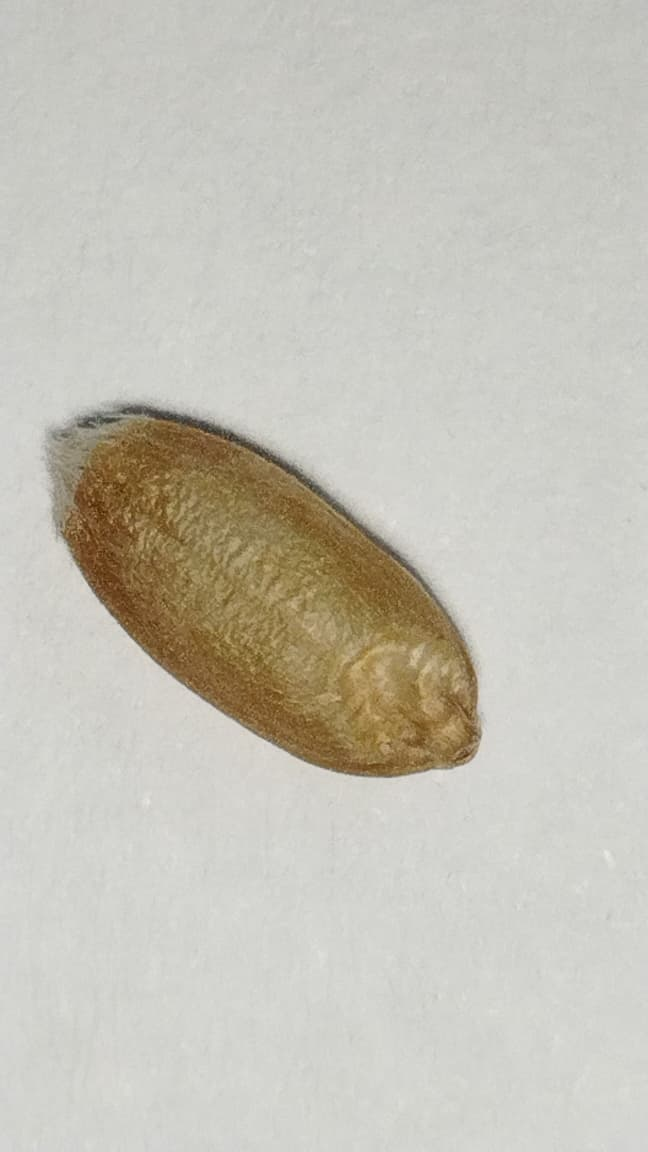healthy: (63, 414, 477, 775)
